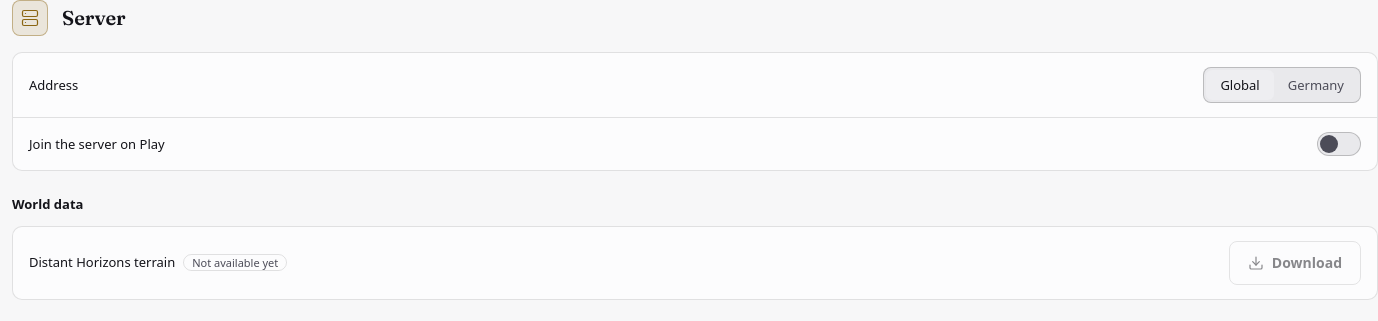
Scenario: The Server section of a chapter settings page › puts the address back and shows the refusal under the control
Step 1. Click the radio button labelled "Germany" → point(1316, 85), box [1274,70,1358,100]
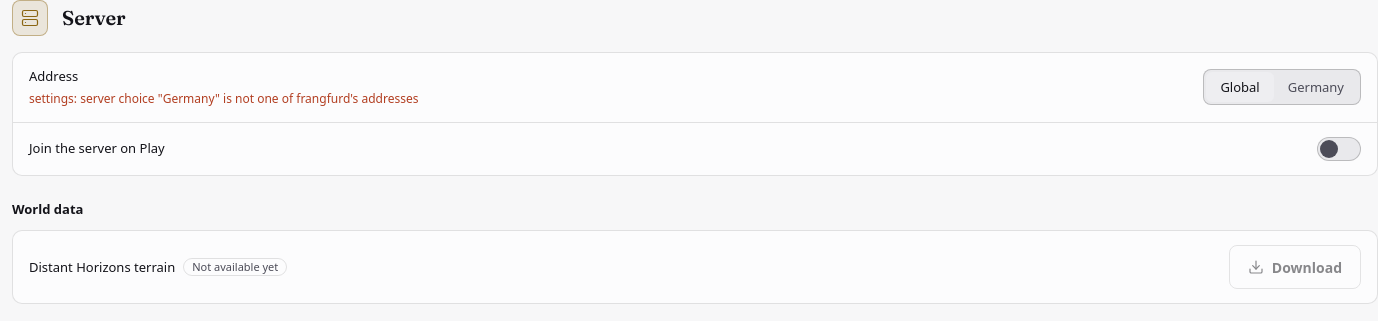
Expected: the radio button labelled "Global" is checked, [1206,72,1274,102]
Result: the message shows "is not one of frangfurd" at [29,90,418,107]
